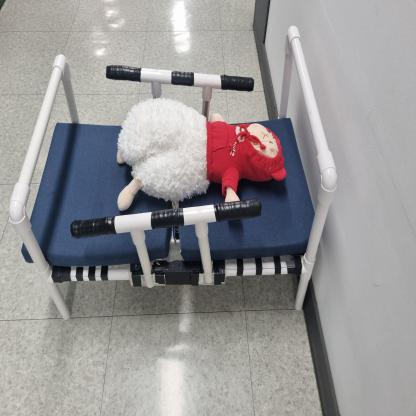yp: (0, 29, 366, 342)
